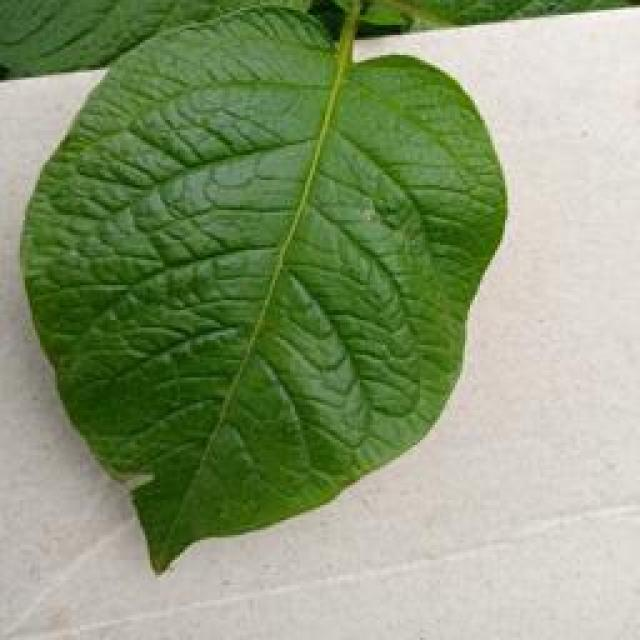healthy: (12, 2, 512, 578)
